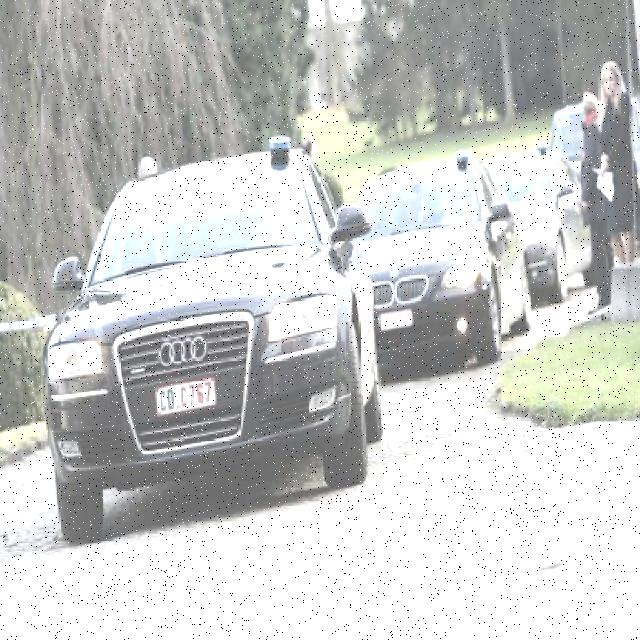license_plate: (154, 376, 218, 418), (378, 308, 414, 332)
